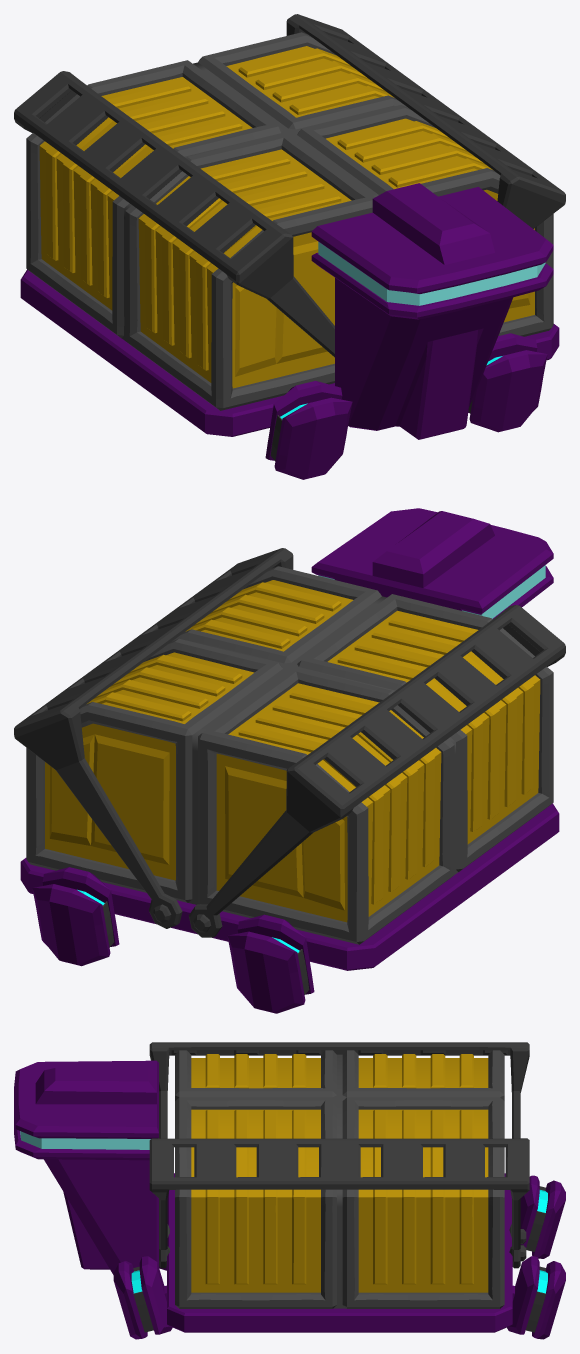
File: CargoLargeOptimised.fbx
3 views of the same model, one above another, from view 1: azimuth 30°, elevation 25°; view 2: azimuth 150°, elevation 25°; view 3: azimuth 270°, elevation 25° (orthographic). The views are drawn at different scales.
Visible parts, largest first — view 1: Truck; view 2: Truck; view 3: Truck.
Part boxes in pixels (x1,y1,x2,y2): Truck: (14,14,565,479); Truck: (14,508,565,1013); Truck: (14,1042,565,1339).
Size of the model in its own units: 256 by 180 by 409.
